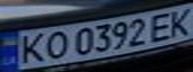0: (69, 25, 93, 56)
2: (127, 15, 154, 47)
3: (90, 21, 115, 53)
9: (109, 19, 133, 51)
E: (145, 10, 181, 43)
K: (12, 30, 48, 65), (163, 6, 193, 37)
O: (39, 29, 72, 61)
